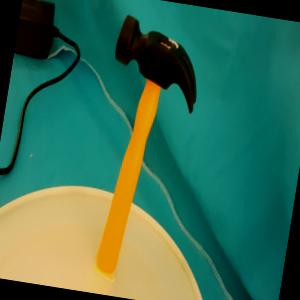martelo: (80, 9, 210, 285)
